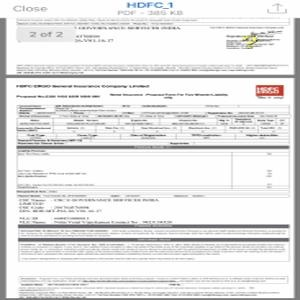image: (255, 83, 284, 99)
table: (15, 146, 291, 200), (15, 103, 291, 146)
text: (19, 241, 287, 262), (17, 200, 179, 224)
